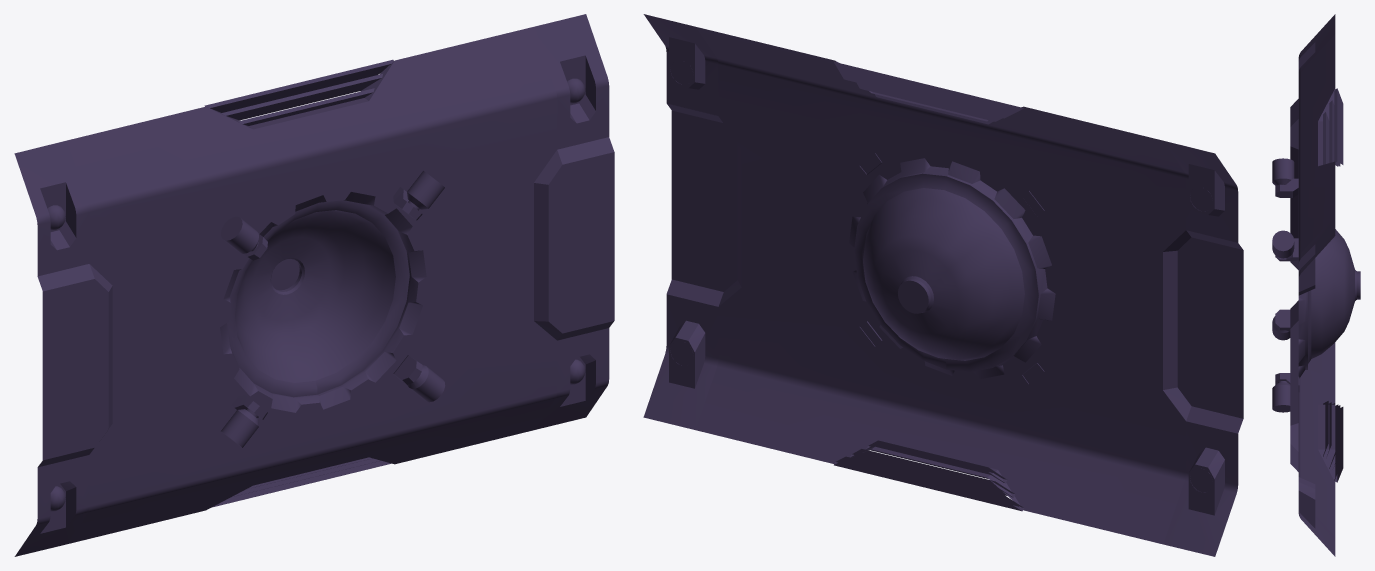
The model's file is obj_questitem_gyroslot.fbx.
3 views of the same model, side by side, from view 1: azimuth 30°, elevation 25°; view 2: azimuth 150°, elevation 25°; view 3: azimuth 270°, elevation 25° (orthographic). The views are drawn at different scales.
Visible parts, largest first — view 1: part2_lp.001, part6_lp.002, part2_lp.002, part6_lp.003, part6_lp.001; view 2: part2_lp.001, part6_lp.002; view 3: part2_lp.001, part6_lp.002, part2_lp.002, part6_lp.003.
Part boxes in pixels (<box>): part2_lp.001: <box>14,14,614,556</box>; part6_lp.002: <box>204,59,393,507</box>; part2_lp.002: <box>221,171,445,447</box>; part6_lp.003: <box>231,187,422,419</box>; part6_lp.001: <box>47,78,585,511</box>; part2_lp.001: <box>643,14,1243,556</box>; part6_lp.002: <box>834,62,1023,511</box>; part2_lp.001: <box>1290,14,1360,556</box>; part6_lp.002: <box>1323,88,1343,482</box>; part2_lp.002: <box>1272,158,1294,412</box>; part6_lp.003: <box>1275,178,1299,391</box>.
Size of the model in its own units: 20.7 by 13.97 by 3.49.
